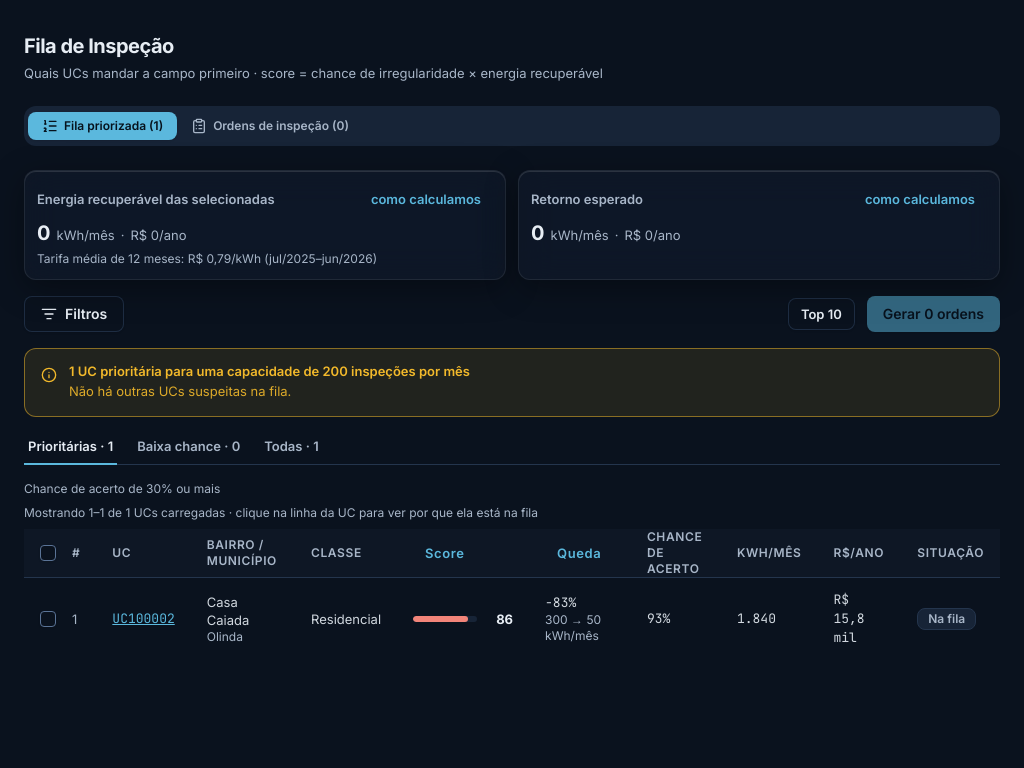
Test: Painel de detalhe da UC › mostra o skeleton enquanto o detalhe carrega
Click the text "Casa Caiada" at x=228, y=610, box [207,594,249,628]
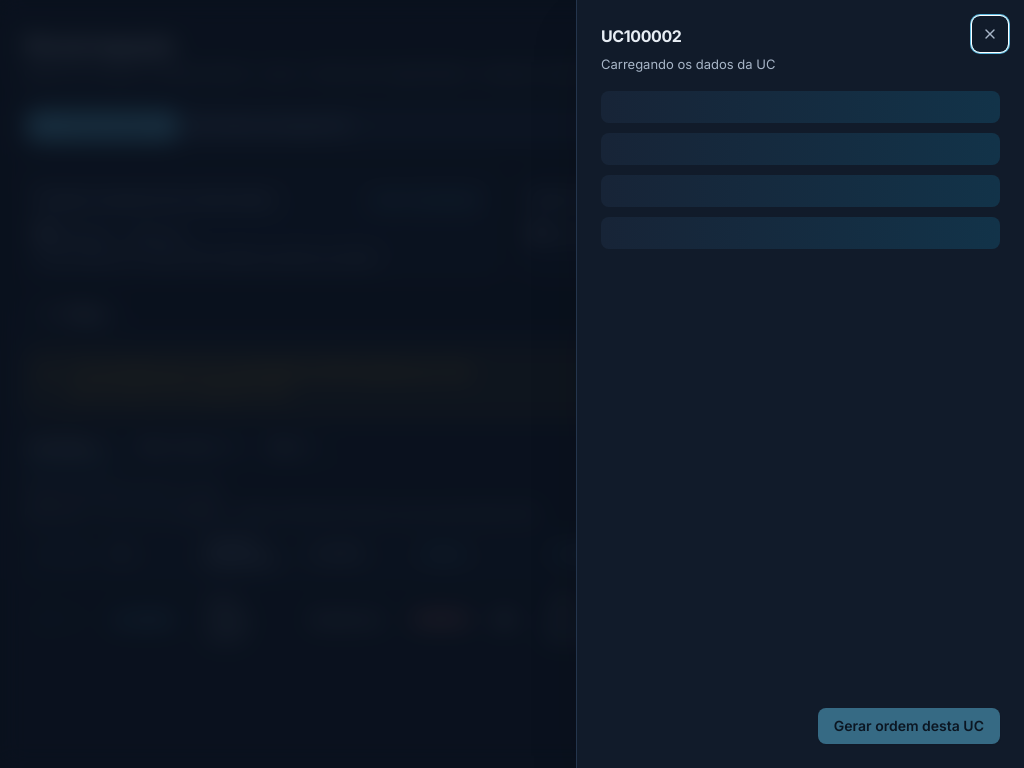
Expected: the text "Carregando os dados da UC" is shown, [601,56,776,72]
